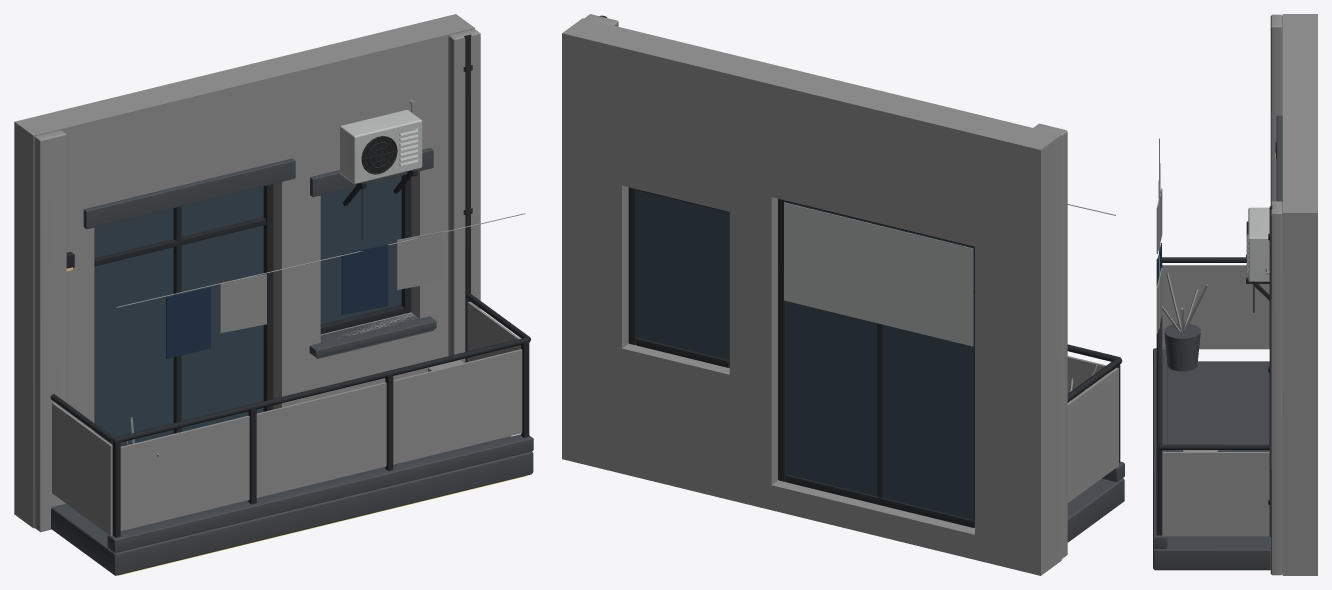
The model's file is Building_Facade_Concrete_Balcony.fbx.
3 views of the same model, side by side, from view 1: azimuth 30°, elevation 25°; view 2: azimuth 150°, elevation 25°; view 3: azimuth 270°, elevation 25° (orthographic). The views are drawn at different scales.
Visible parts, largest first — view 1: Building_Facade_Concrete_Balcony_LOD0; view 2: Building_Facade_Concrete_Balcony_LOD0; view 3: Building_Facade_Concrete_Balcony_LOD0.
Part boxes in pixels (left/top/right/bottom): Building_Facade_Concrete_Balcony_LOD0: left=14, top=14, right=533, bottom=575; Building_Facade_Concrete_Balcony_LOD0: left=562, top=14, right=1124, bottom=575; Building_Facade_Concrete_Balcony_LOD0: left=1153, top=14, right=1317, bottom=575.
Size of what is drawn, in the model's own units: 4 by 3.41 by 1.4.
